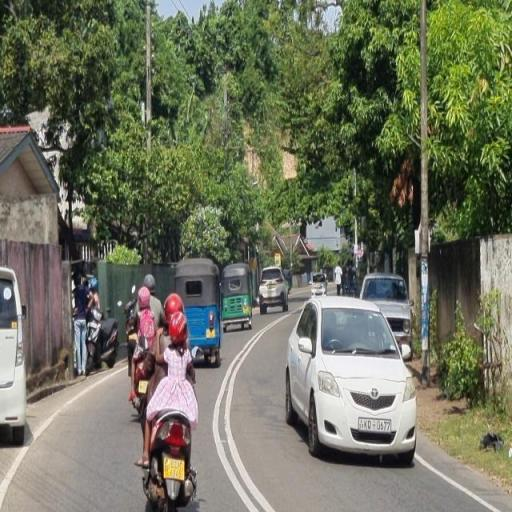double_white_line: (214, 305, 276, 512), (415, 453, 497, 512)
